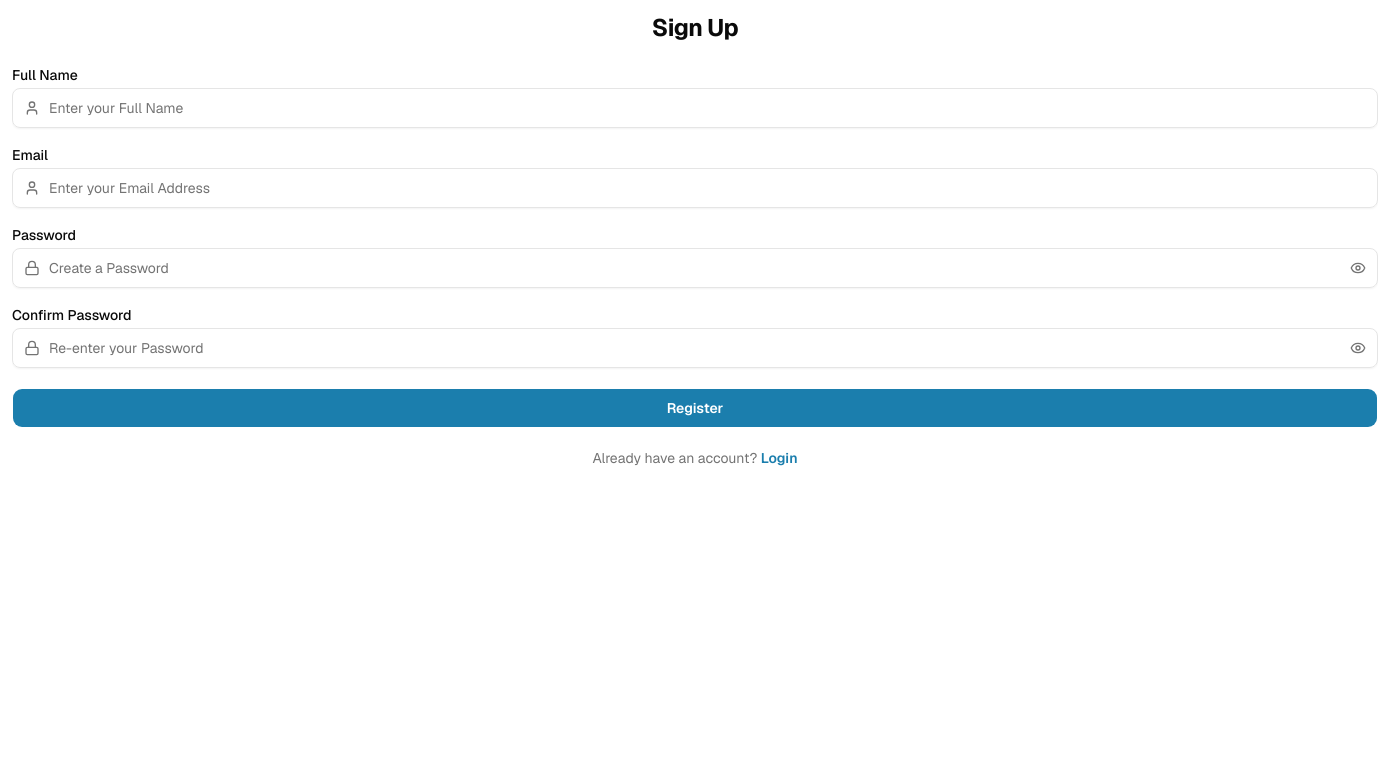
Scenario: RegisterForm › should show validation errors on empty submit
What coordinates should you click on to do the following:
click the button "Register"
I would click on:
 (695, 408)
Its box is [12,388,1378,428].
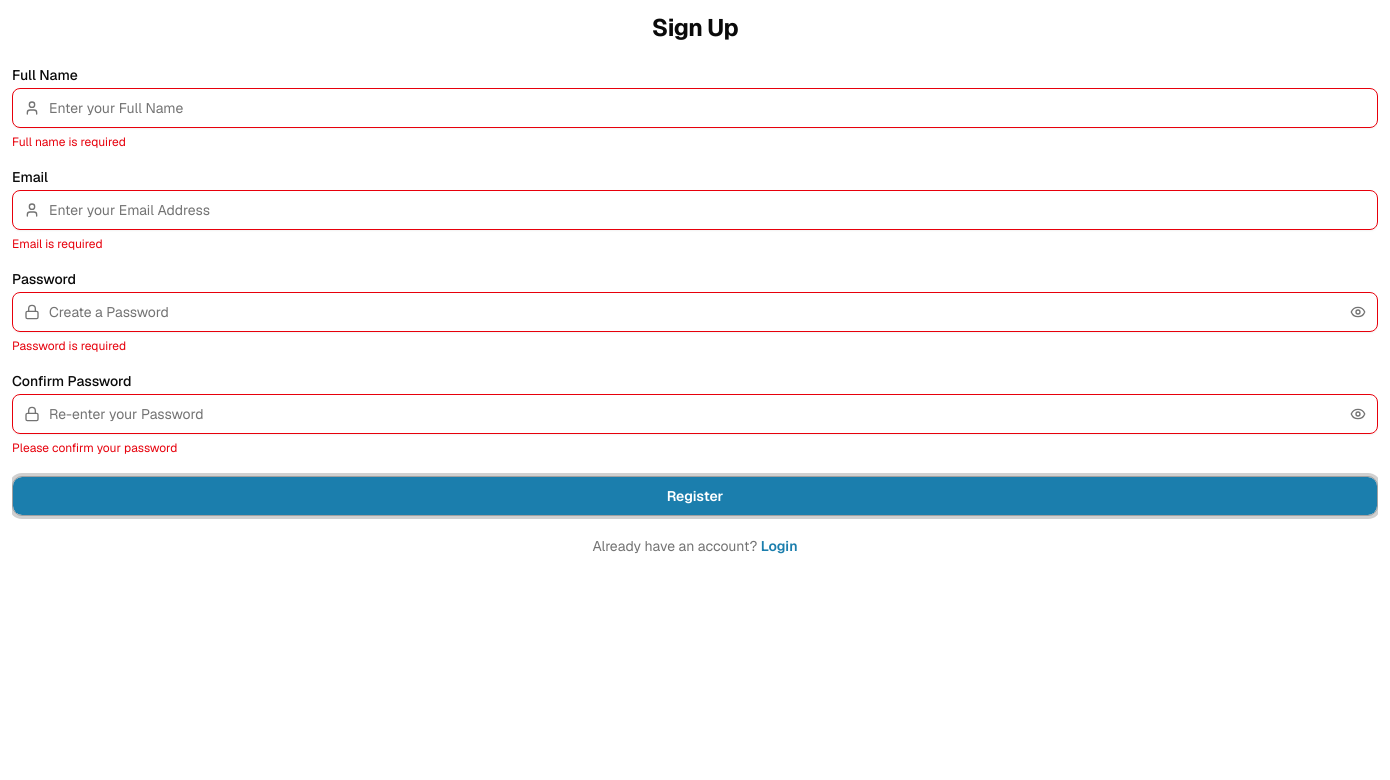
Now the text "Full name is required" is shown, box [12,134,126,150]
Now the text "Email is required" is shown, box [12,236,103,252]
Now the text "Password is required" is shown, box [12,338,126,354]
